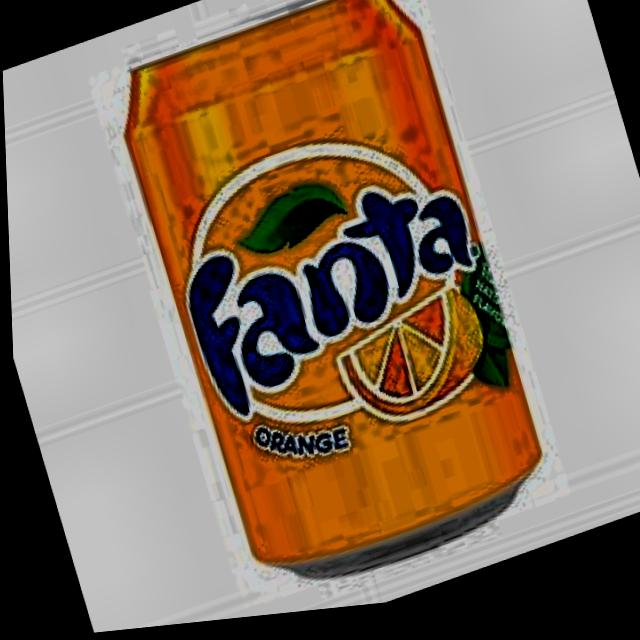Cans: (68, 0, 584, 634)
